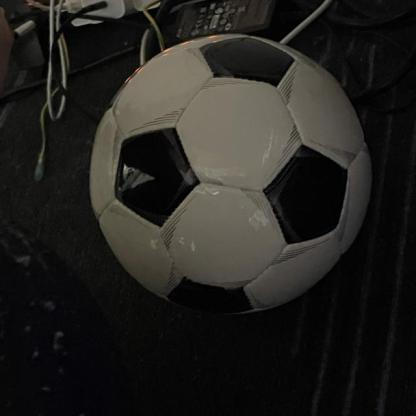ball: (90, 33, 374, 317)
